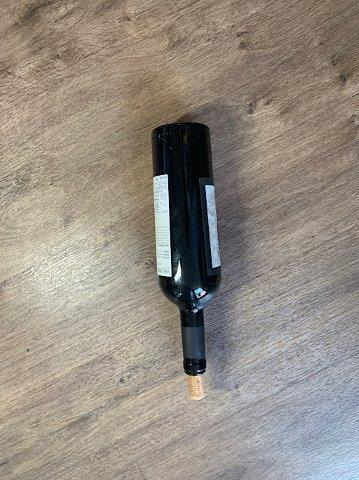botolkaca: (152, 124, 223, 400)
